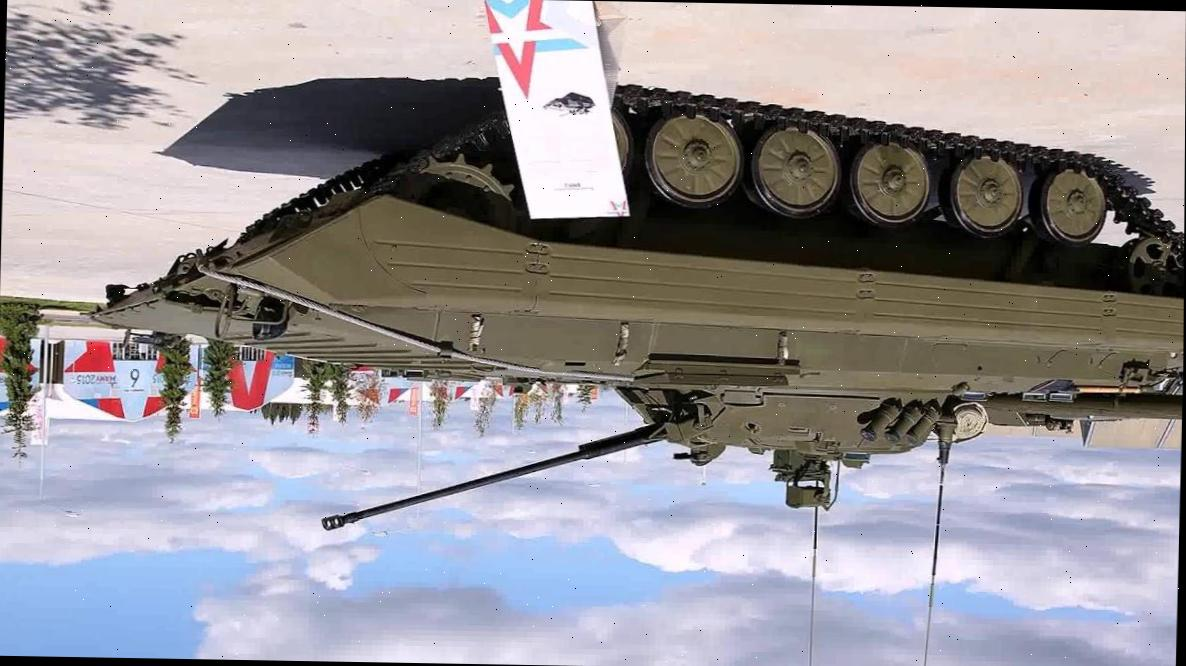tank: (71, 73, 1185, 546)
